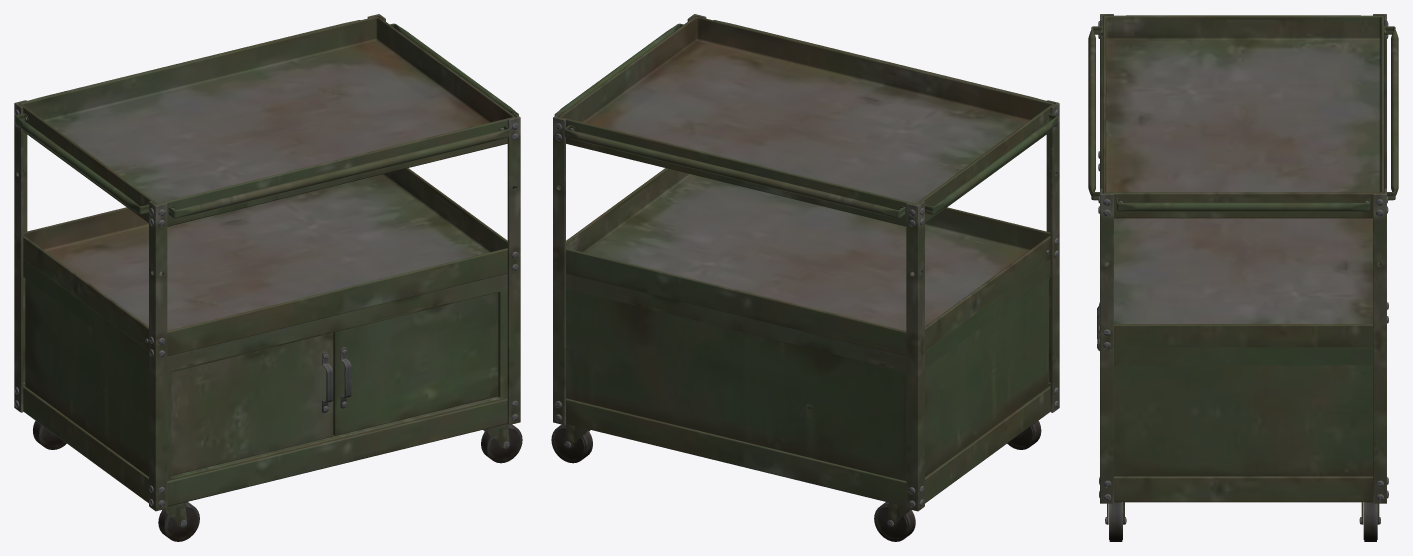
File: ph-industrial_storage_cart.glb
3 views of the same model, side by side, from view 1: azimuth 30°, elevation 25°; view 2: azimuth 150°, elevation 25°; view 3: azimuth 270°, elevation 25° (orthographic).
Visible parts, largest first — view 1: industrial_storage_cart; view 2: industrial_storage_cart; view 3: industrial_storage_cart.
Part boxes in pixels (left/top/right/bottom): industrial_storage_cart: left=14, top=14, right=522, bottom=541; industrial_storage_cart: left=551, top=14, right=1059, bottom=541; industrial_storage_cart: left=1088, top=14, right=1398, bottom=541.
Size of the model in its own units: 1 by 0.8591 by 0.6878.
Materials: 1 (1 with a texture image).
